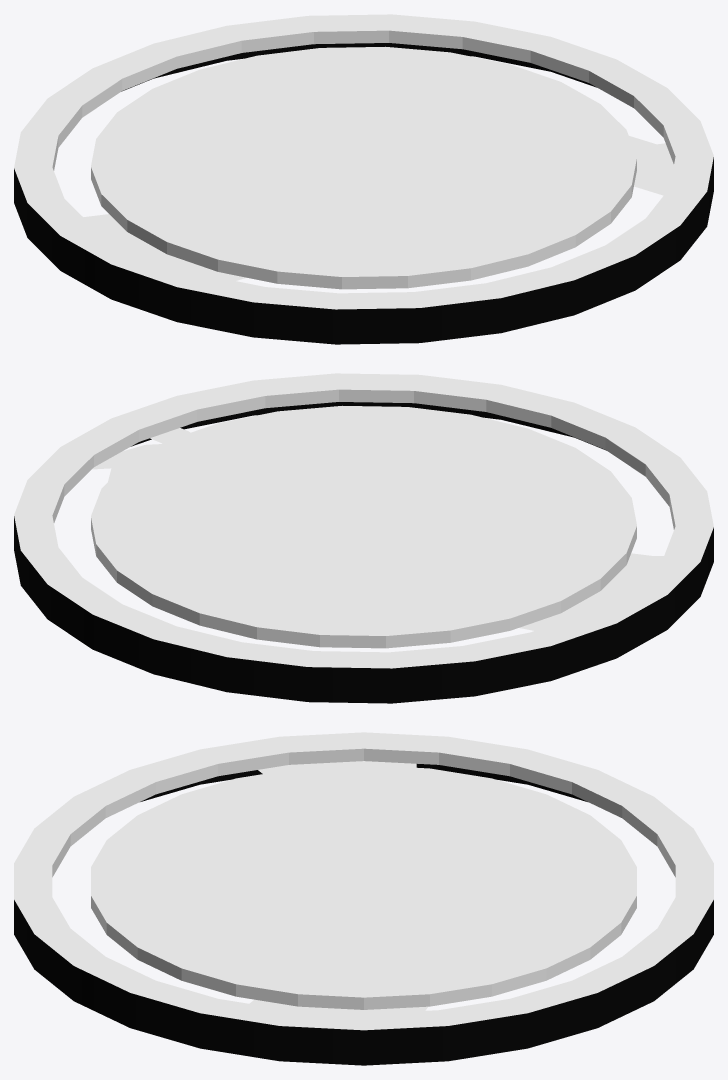
The model's file is start_finish.fbx.
The picture shows the model from 3 angles, top to bottom: view 1: azimuth 30°, elevation 25°; view 2: azimuth 150°, elevation 25°; view 3: azimuth 270°, elevation 25°; orthographic projection.
Visible parts, largest first — view 1: Cylinder001; view 2: Cylinder001; view 3: Cylinder001.
Part boxes in pixels (left/top/right/bottom): Cylinder001: left=14, top=14, right=713, bottom=344; Cylinder001: left=14, top=373, right=713, bottom=703; Cylinder001: left=14, top=732, right=713, bottom=1065.
Size of the model in its own units: 18.35 by 1.01 by 18.21.
Materials: 3 (2 with a texture image).
